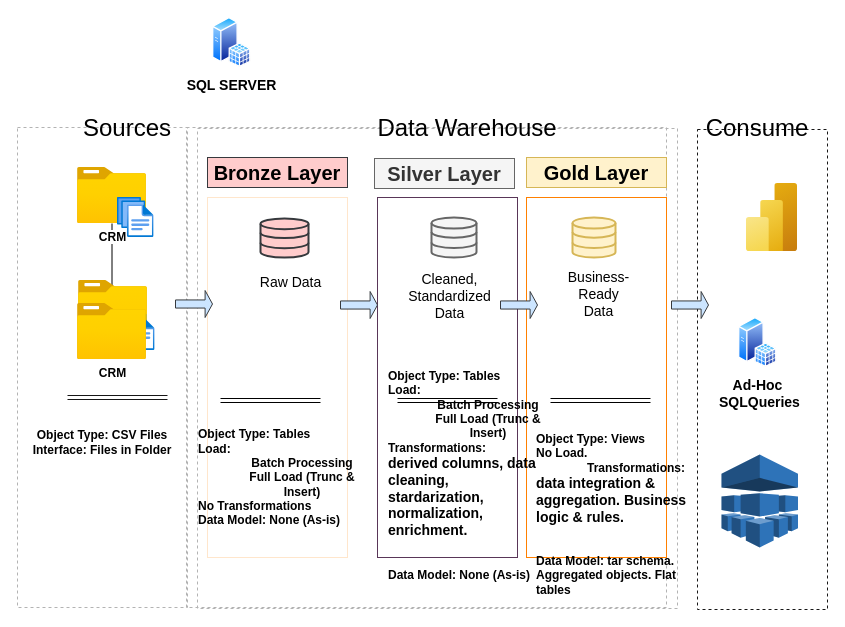
This 845x627 diagram has some shape labels left out. Here are the shapes that lost their labels. From the top down, the centre of each, then its label:
At [771,217]: "BI & Reporting".
At [759,501]: "Machine Learning".
